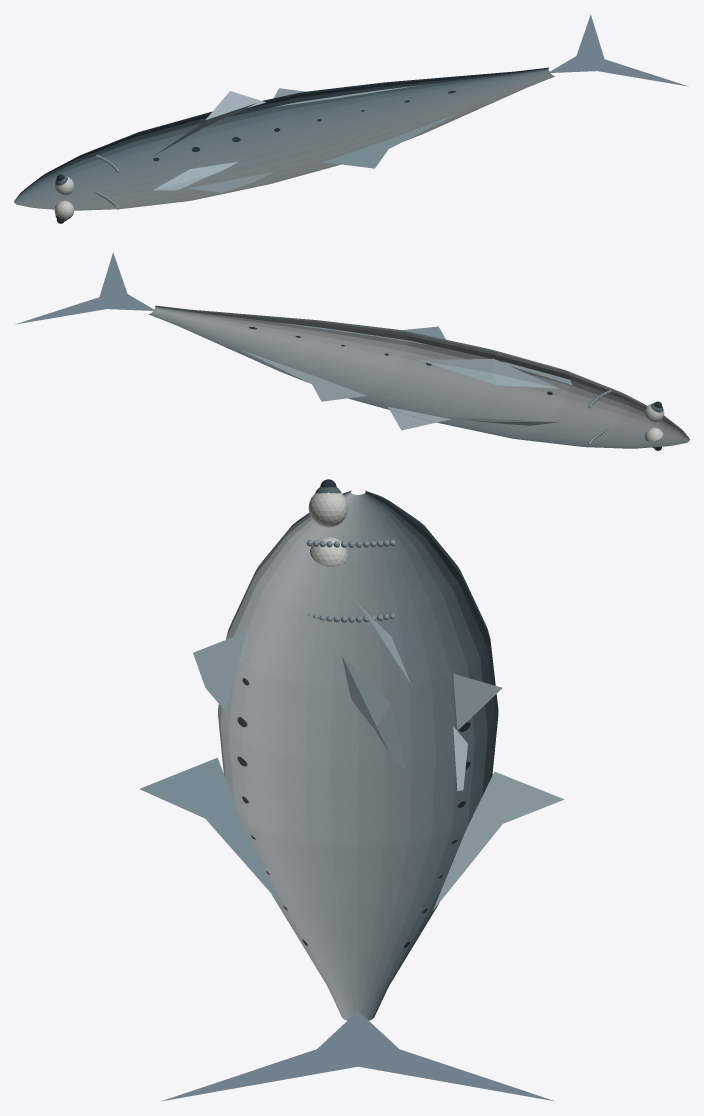
File: Ikan_Talang.glb
The picture shows the model from 3 angles, top to bottom: view 1: azimuth 30°, elevation 25°; view 2: azimuth 150°, elevation 25°; view 3: azimuth 270°, elevation 25°; orthographic projection. The views are drawn at different scales.
Visible parts, largest first — view 1: fish; view 2: fish; view 3: fish.
Boxes of the visible parts, x1,y1,x2,y2 form: fish: (14, 14, 688, 223); fish: (15, 252, 689, 450); fish: (140, 479, 564, 1101).
Bounding box in the file's own units: 3.49 × 0.38 × 1.03.
Materials: 1 (1 with a texture image).
